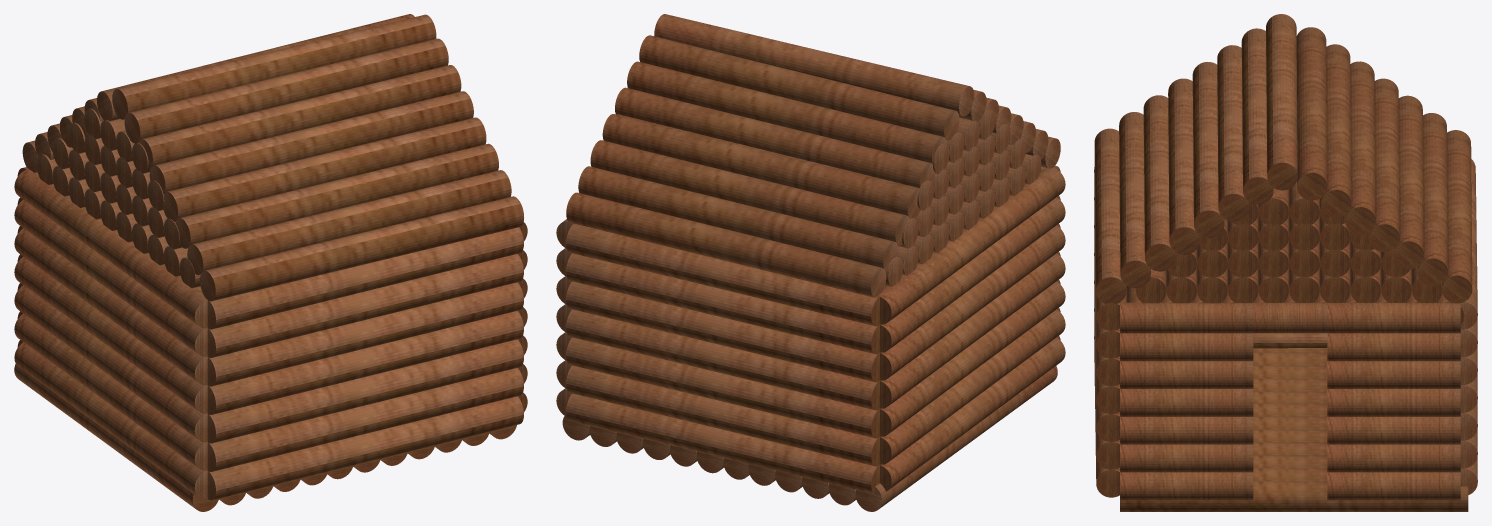
Rendered from cabin.glb.
The picture shows the model from 3 angles, left to right: view 1: azimuth 30°, elevation 25°; view 2: azimuth 150°, elevation 25°; view 3: azimuth 270°, elevation 25°; orthographic projection. The views are drawn at different scales.
Parts seen in each view (by area): view 1: Cylinder.004; view 2: Cylinder.004; view 3: Cylinder.004.
Part boxes in pixels (x1,y1,x2,y2): Cylinder.004: [14, 14, 527, 511]; Cylinder.004: [556, 14, 1065, 511]; Cylinder.004: [1094, 14, 1477, 511].
Size of the model in its own units: 25.16 by 25.6 by 25.21.
Materials: 1 (1 with a texture image).
